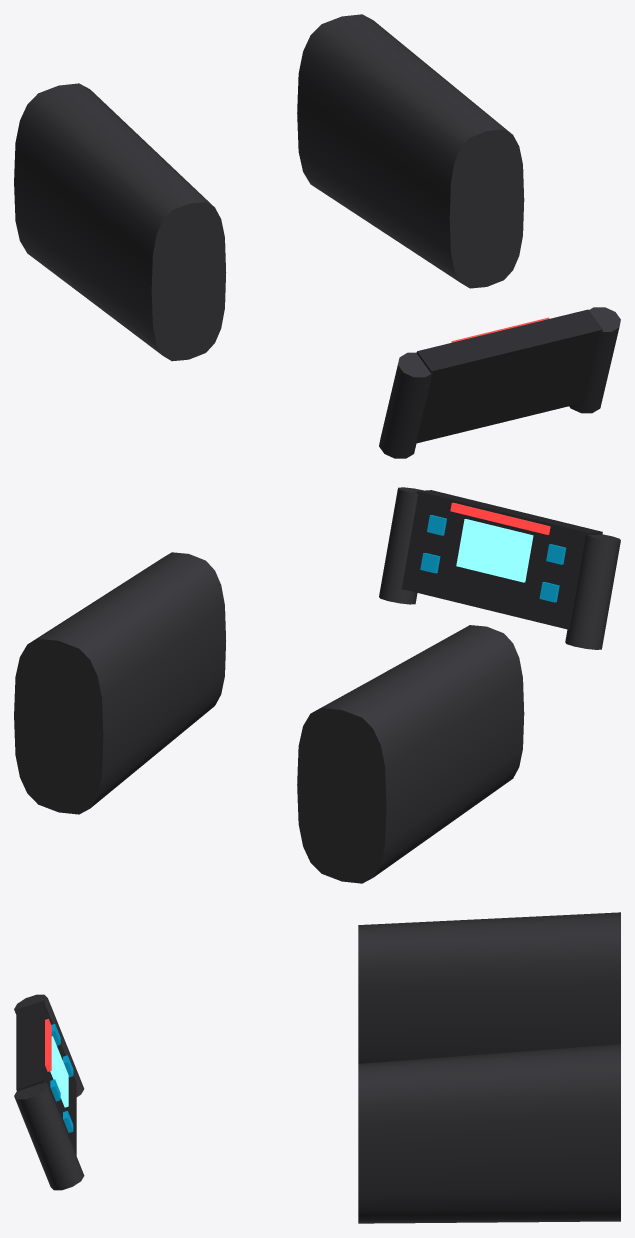
Rendered from standard.glb.
3 views of the same model, one above another, from view 1: azimuth 30°, elevation 25°; view 2: azimuth 150°, elevation 25°; view 3: azimuth 270°, elevation 25° (orthographic). The views are drawn at different scales.
Visible parts, largest first — view 1: Headrest, SteeringWheel; view 2: Headrest, SteeringWheel; view 3: Headrest, SteeringWheel.
Boxes of the visible parts, x1,y1,x2,y2 form: Headrest: (14, 14, 524, 361); SteeringWheel: (379, 307, 620, 458); Headrest: (14, 552, 524, 883); SteeringWheel: (379, 487, 620, 649); Headrest: (358, 912, 620, 1223); SteeringWheel: (14, 994, 84, 1190).
Size of the model in its own units: 0.5 by 0.22 by 0.7395.
